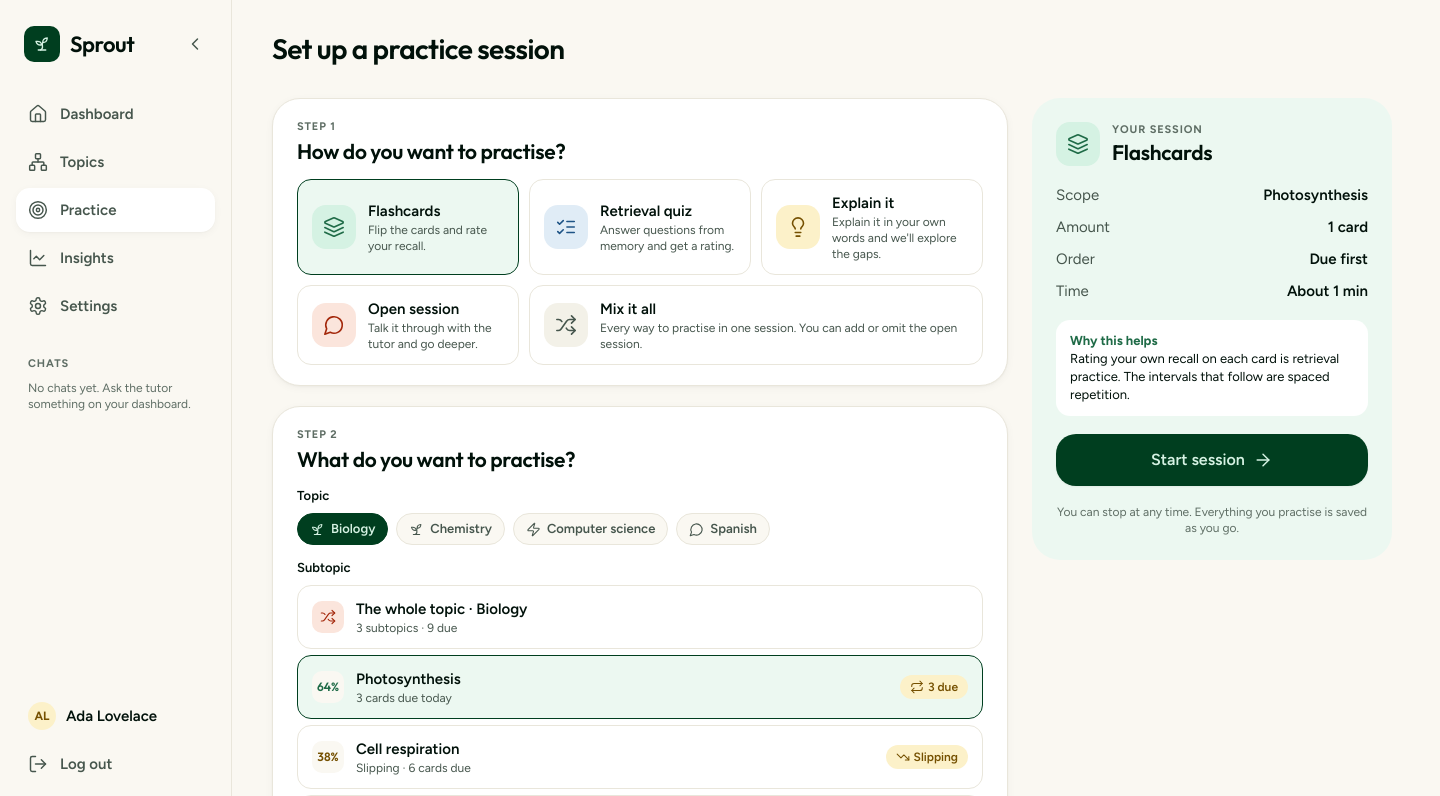
it: PracticeSetupView › stays on the setup with the API’s message when the session can’t start
Click the button with test id "start-session" at (1212, 460), box left=1056, top=434, right=1368, bottom=486
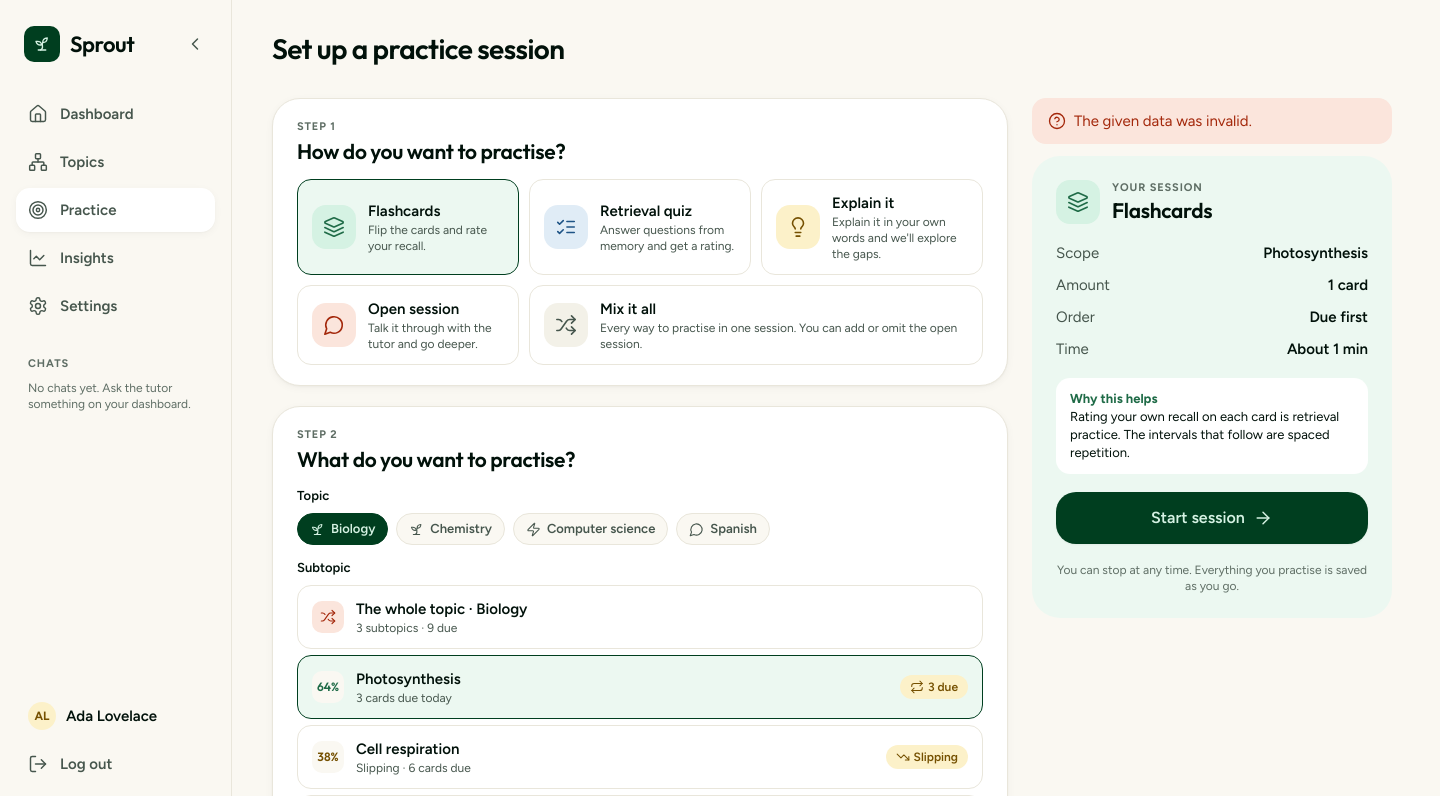
Expected: the message with test id "form-error" reads "The given data was invalid.", left=1074, top=112, right=1252, bottom=130
